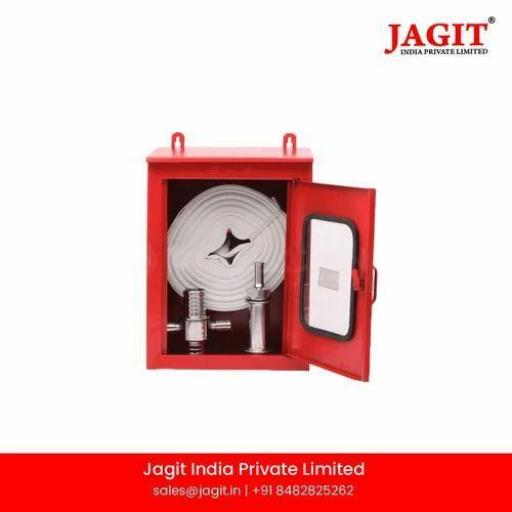fire_hose: (136, 133, 380, 384)
